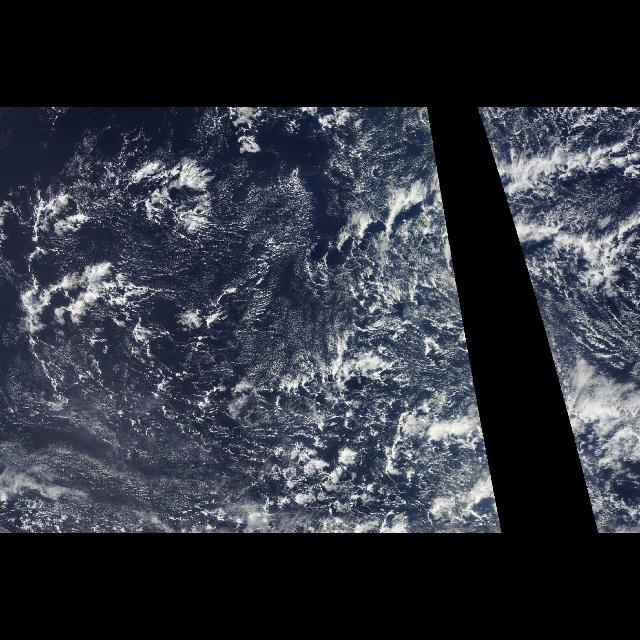Gravel: (29, 161, 500, 534), (494, 160, 636, 524)
Sugar: (115, 179, 343, 365), (3, 382, 200, 514), (552, 302, 634, 362)
